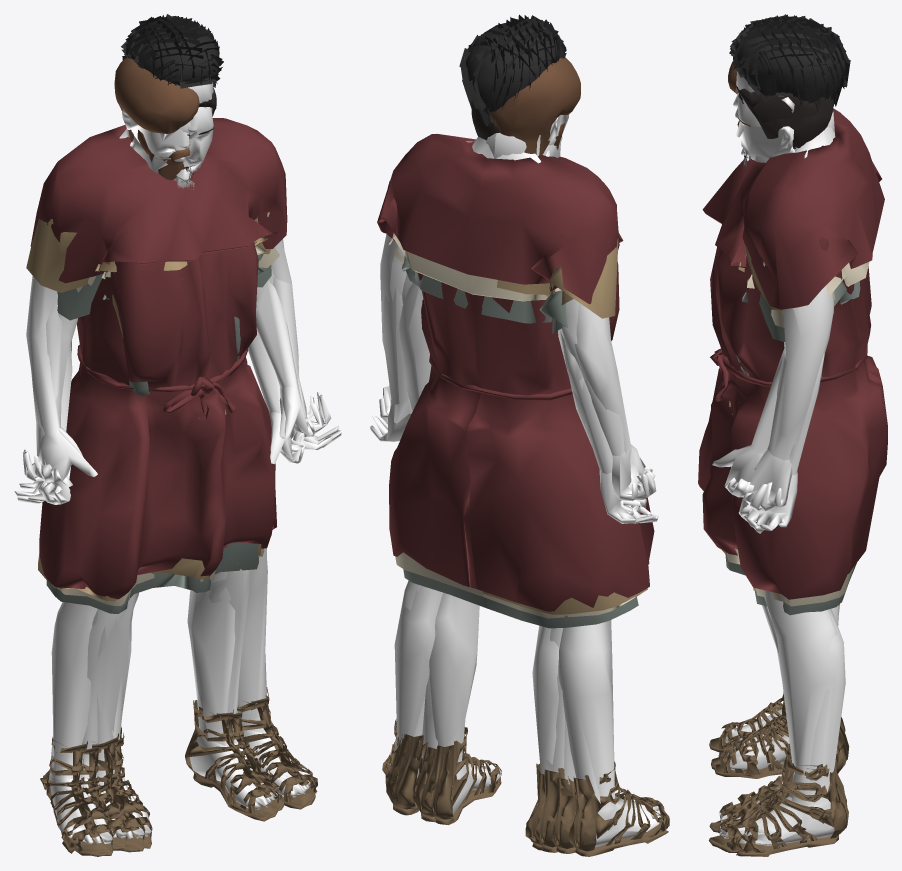
The model's file is spectators-low.glb.
3 views of the same model, side by side, from view 1: azimuth 30°, elevation 25°; view 2: azimuth 150°, elevation 25°; view 3: azimuth 270°, elevation 25° (orthographic). The views are drawn at different scales.
Parts seen in each view (by area): view 1: OwnerWhiteTunic (×4), OwnerSkin (×4), OwnerSandals (×4), Hair_curls, Hair_swept, Beard_scruffy; view 2: OwnerWhiteTunic (×4), OwnerSkin (×4), OwnerSandals (×4), Hair_curls, Hair_swept; view 3: OwnerWhiteTunic (×3), OwnerSkin (×4), OwnerSandals (×4), Hair_curls, Hair_short.
Boxes of the visible parts, left/top/right/bottom form: OwnerWhiteTunic (×4): left=26, top=118, right=287, bottom=613; OwnerSkin (×4): left=14, top=82, right=341, bottom=844; OwnerSandals (×4): left=40, top=687, right=317, bottom=856; Hair_curls: left=121, top=14, right=223, bottom=88; Hair_swept: left=114, top=57, right=199, bottom=141; Beard_scruffy: left=137, top=130, right=190, bottom=180; OwnerWhiteTunic (×4): left=377, top=134, right=654, bottom=628; OwnerSkin (×4): left=370, top=114, right=661, bottom=847; OwnerSandals (×4): left=382, top=719, right=669, bottom=856; Hair_curls: left=459, top=14, right=566, bottom=129; Hair_swept: left=489, top=57, right=580, bottom=155; OwnerWhiteTunic (×3): left=698, top=108, right=887, bottom=615; OwnerSkin (×4): left=712, top=71, right=845, bottom=845; OwnerSandals (×4): left=709, top=692, right=849, bottom=856; Hair_curls: left=729, top=14, right=850, bottom=112; Hair_short: left=736, top=84, right=833, bottom=148.
Bounding box in the file's own units: 0.7343 × 1.83 × 0.4019.
